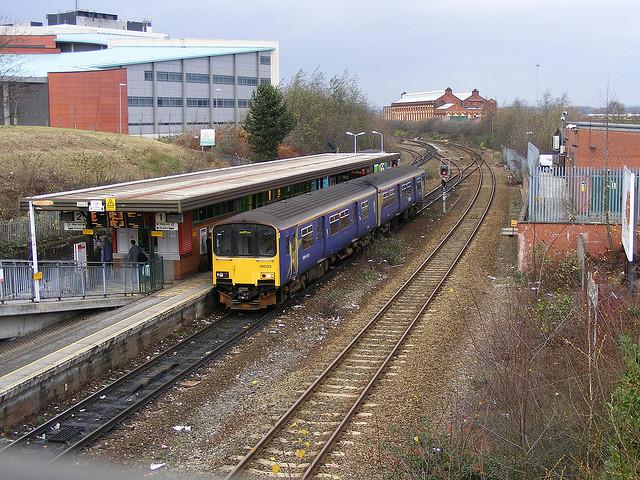Train: (212, 167, 430, 314)
